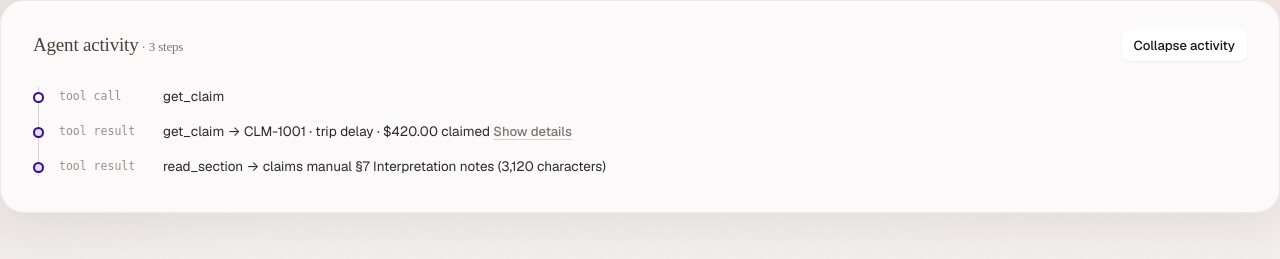
Test: Trace formatting › collapses and expands the whole panel
Click the button "Collapse activity": [1184, 45] box [1122, 29, 1247, 61]
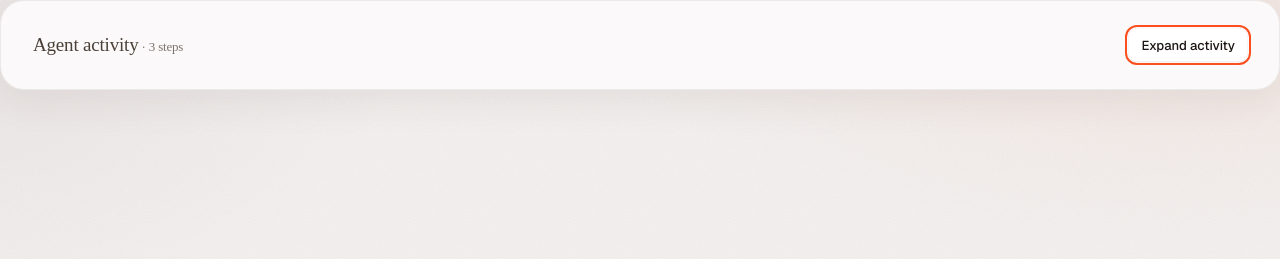
Expected: no list items are shown
Expected: the button "Expand activity" is collapsed
Click the button "Expand activity": [1188, 45] box [1129, 29, 1247, 61]
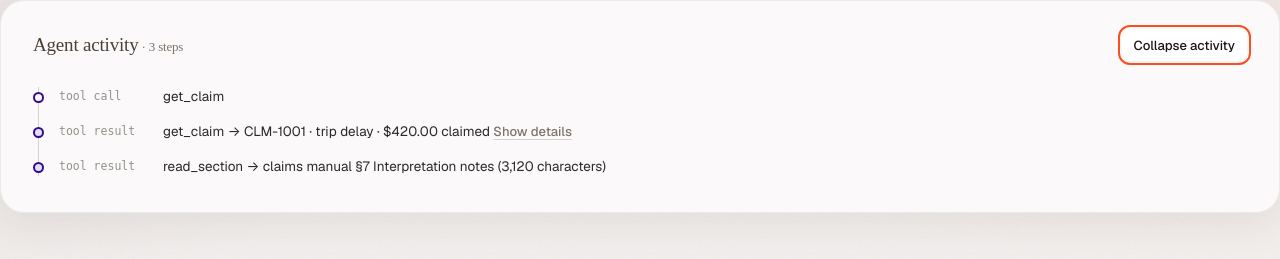
Expected: the number of list items is 3, [59, 87, 224, 105]; [59, 122, 572, 140]; [59, 157, 606, 175]
